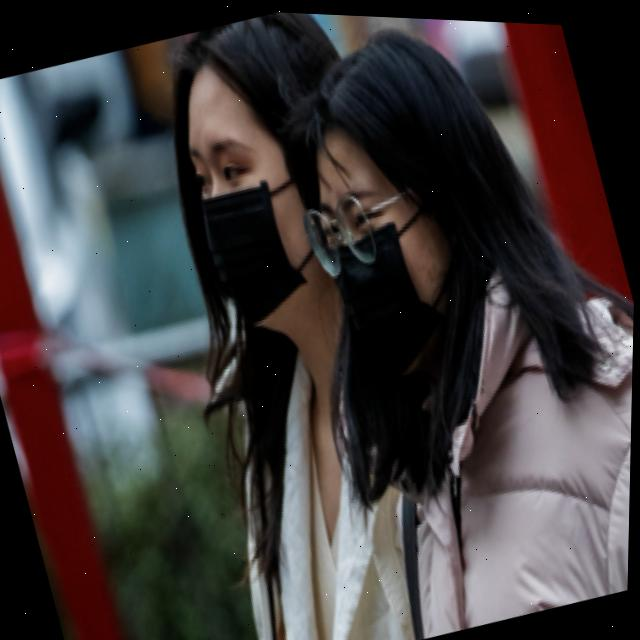Mask: (308, 196, 500, 376), (190, 158, 337, 326)
